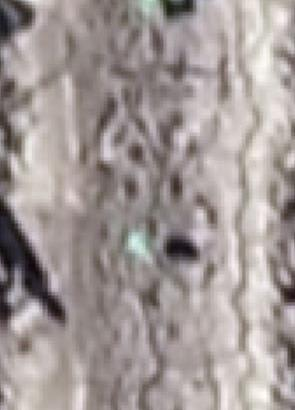cotton: (129, 230, 149, 252), (143, 1, 159, 12)
